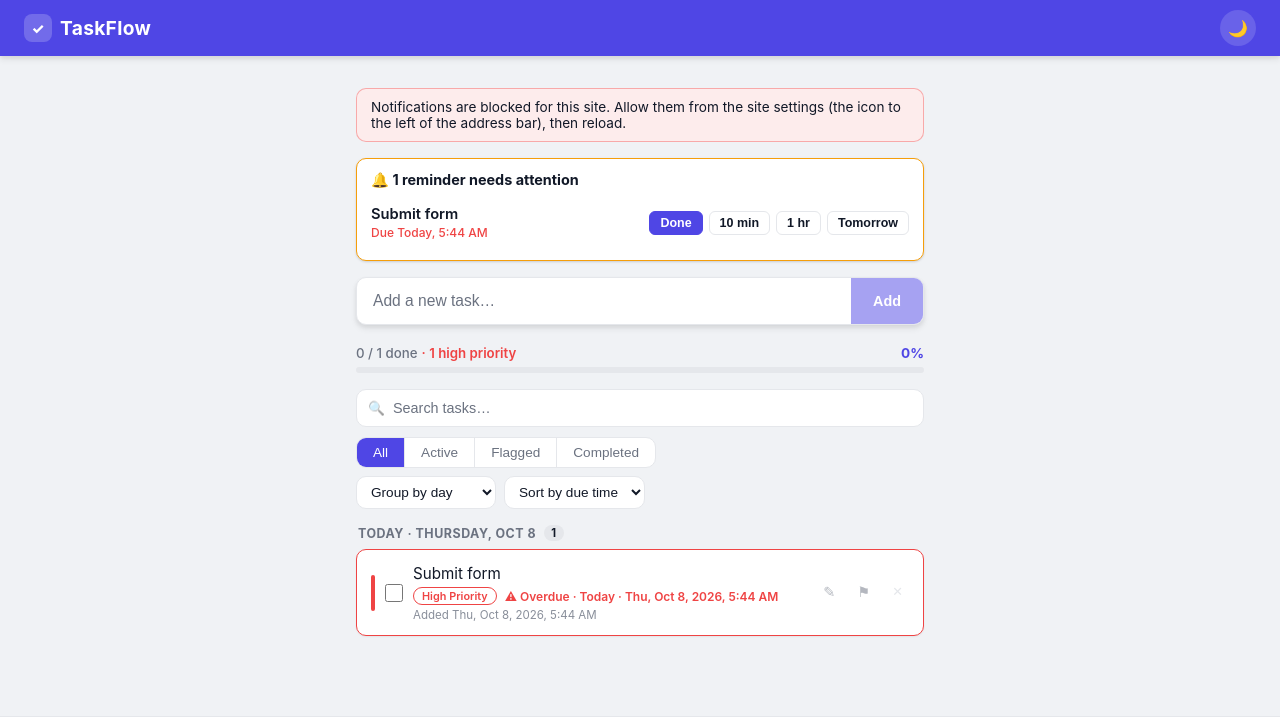
Scenario: a task whose time has passed shows up in the reminders panel
The image size is (1280, 720).
Expected: the heading "🔔 1 reminder needs attention" is shown, [371,171,579,188]
Click the button "1 hr": (799, 222) [776,210,821,234]
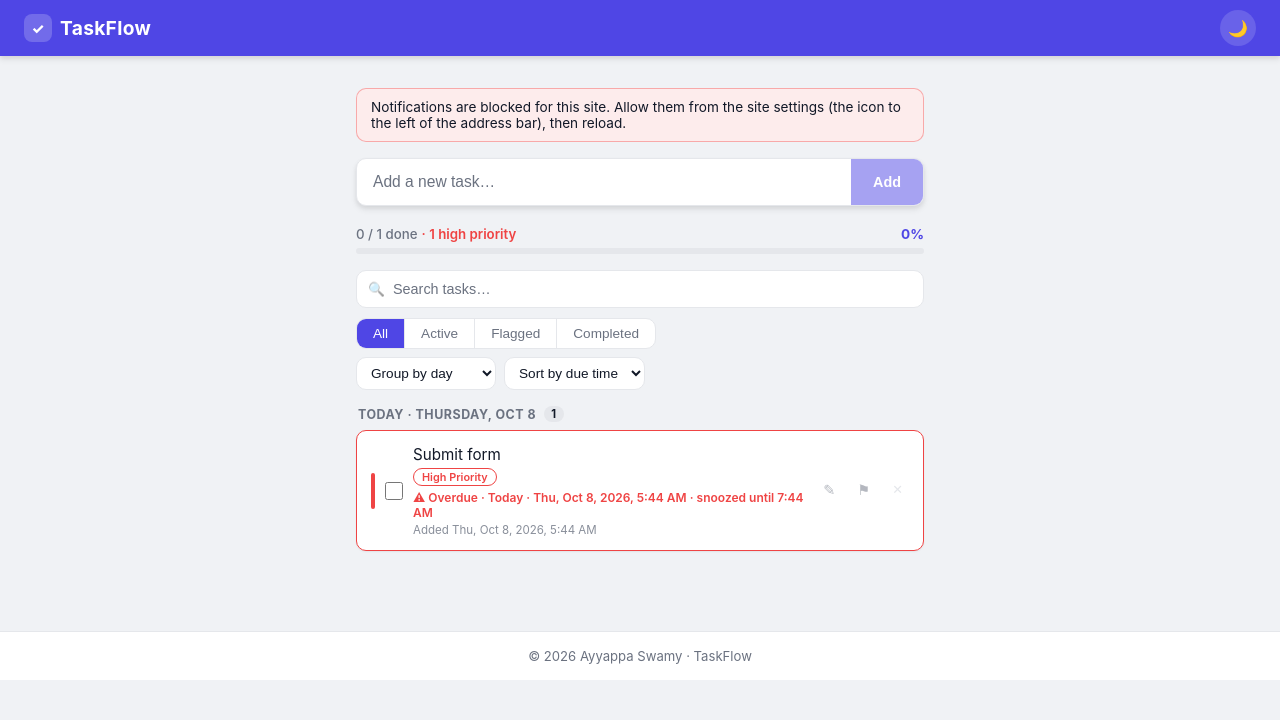
Expected: the heading "reminder needs attention" is gone
